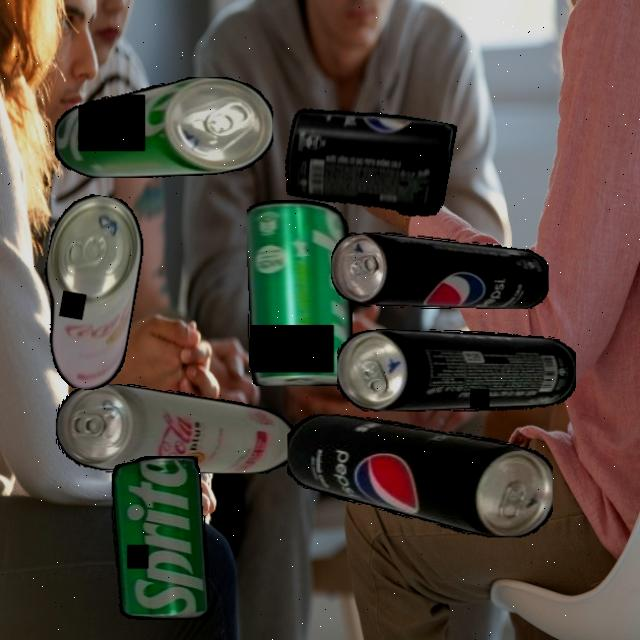debris: (286, 414, 552, 538), (27, 189, 152, 395), (56, 383, 307, 473), (54, 77, 273, 178), (280, 98, 458, 222), (337, 328, 576, 412), (247, 199, 353, 386), (331, 232, 549, 308), (111, 456, 208, 620)
